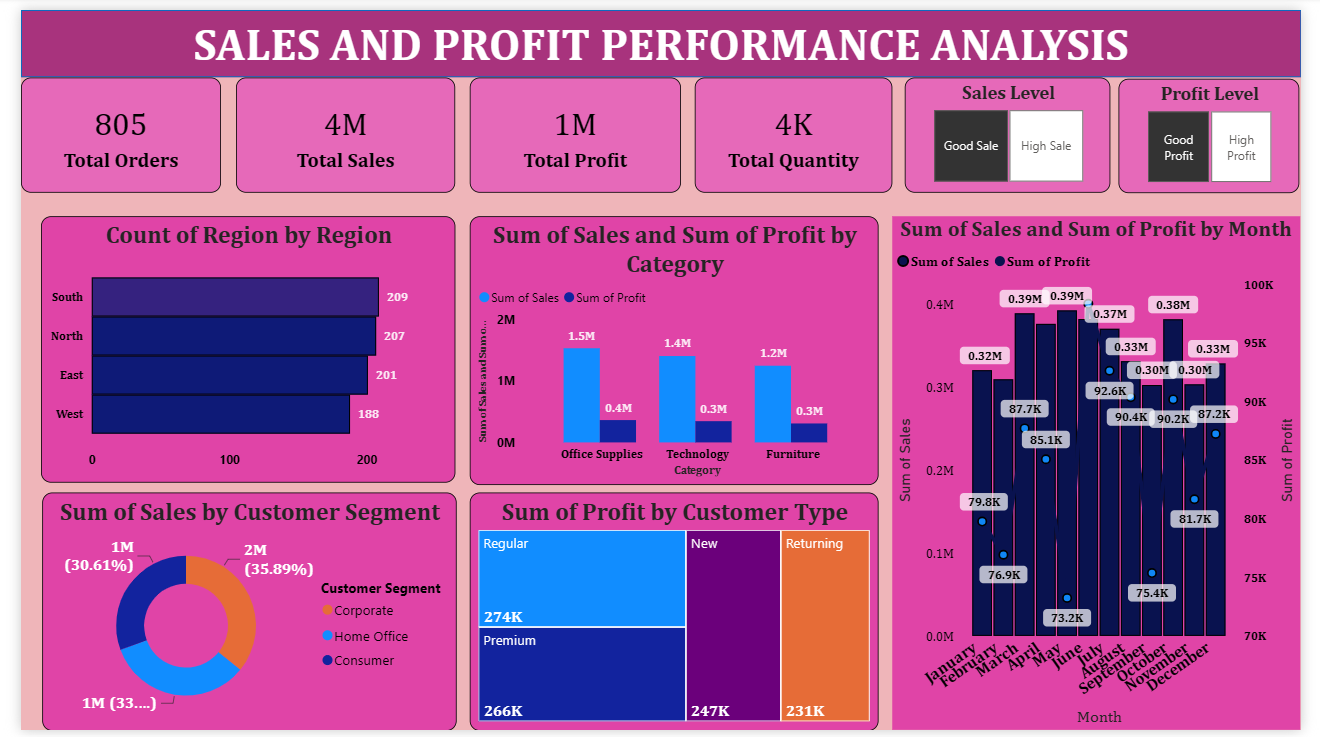

What the dashboard file says about the page in this screenshot:
{"tool":"powerbi","page":{"name":"Page 1","canvas":[1280,720],"ordinal":0},"visuals":[{"type":"shape","box":[0,0,1280.3,67.2],"z":0},{"type":"card","fields":{"Values":["Superstore_Data.Total Sales"]},"box":[215.4,67.2,219.6,115.3],"z":1000},{"type":"card","fields":{"Values":["Superstore_Data.Total Profit"]},"box":[448.7,67.2,211.3,115.3],"z":2000},{"type":"card","fields":{"Values":["Superstore_Data.Total Quantity"]},"box":[673.8,67.2,197.6,115.3],"z":3000},{"type":"slicer","title":"Sales Level","fields":{"Values":["Superstore_Data.Sales Level"]},"box":[883.7,67.2,205.8,115.3],"z":4000},{"type":"slicer","title":"Profit Level","fields":{"Values":["Superstore_Data.Profit level"]},"box":[1097.9,68.8,181,114.6],"z":5000},{"type":"card","fields":{"Values":["Superstore_Data.Total Orders"]},"box":[0,67.2,200.3,115.3],"z":6000},{"type":"barChart","fields":{"Category":["Superstore_Data.Region"],"Y":["CountNonNull(Superstore_Data.Region)"]},"box":[20.6,205.8,414.4,266.2],"z":7000},{"type":"clusteredColumnChart","fields":{"Category":["Superstore_Data.Category"],"Y":["Sum(Superstore_Data.Sales)","Sum(Superstore_Data.Profit)"]},"box":[448.7,205.8,408.9,269],"z":8000},{"type":"donutChart","fields":{"Category":["Superstore_Data.Customer Segment"],"Y":["Sum(Superstore_Data.Sales)"]},"box":[21,482,414,238],"z":9000},{"type":"treemap","fields":{"Group":["Superstore_Data.Customer Type"],"Values":["Sum(Superstore_Data.Profit)"]},"box":[449,482,409,238],"z":10000},{"type":"lineClusteredColumnComboChart","fields":{"Category":["Superstore_Data.Order Date.Variation.Date Hierarchy.Month"],"Y":["Sum(Superstore_Data.Sales)"],"Y2":["Sum(Superstore_Data.Profit)"]},"box":[871.1,206.3,407.8,513.9],"z":11000}]}

Visuals, with their boxes in screenshot pixels (x1, y1, x2, y2), scaled from the page's 1280x720 canvas onto the 1320x737 screenshot:
shape: 0, 0, 1319, 69
card - Superstore_Data.Total Sales: 222, 69, 449, 187
card - Superstore_Data.Total Profit: 463, 69, 681, 187
card - Superstore_Data.Total Quantity: 695, 69, 899, 187
"Sales Level" slicer: 911, 69, 1124, 187
"Profit Level" slicer: 1132, 70, 1319, 188
card - Superstore_Data.Total Orders: 0, 69, 207, 187
barChart - Superstore_Data.Region x CountNonNull(Superstore_Data.Region): 21, 211, 449, 483
clusteredColumnChart - Superstore_Data.Category x Sum(Superstore_Data.Sales): 463, 211, 884, 486
donutChart - Superstore_Data.Customer Segment x Sum(Superstore_Data.Sales): 22, 493, 449, 736
treemap - Superstore_Data.Customer Type x Sum(Superstore_Data.Profit): 463, 493, 885, 736
lineClusteredColumnComboChart - Superstore_Data.Order Date.Variation.Date Hierarchy.Month x Sum(Superstore_Data.Sales): 898, 211, 1319, 736
